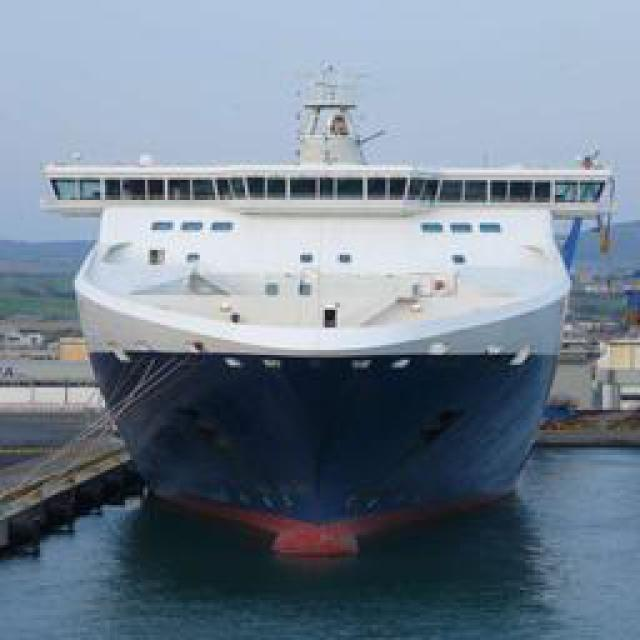Ship: (67, 79, 587, 564)
